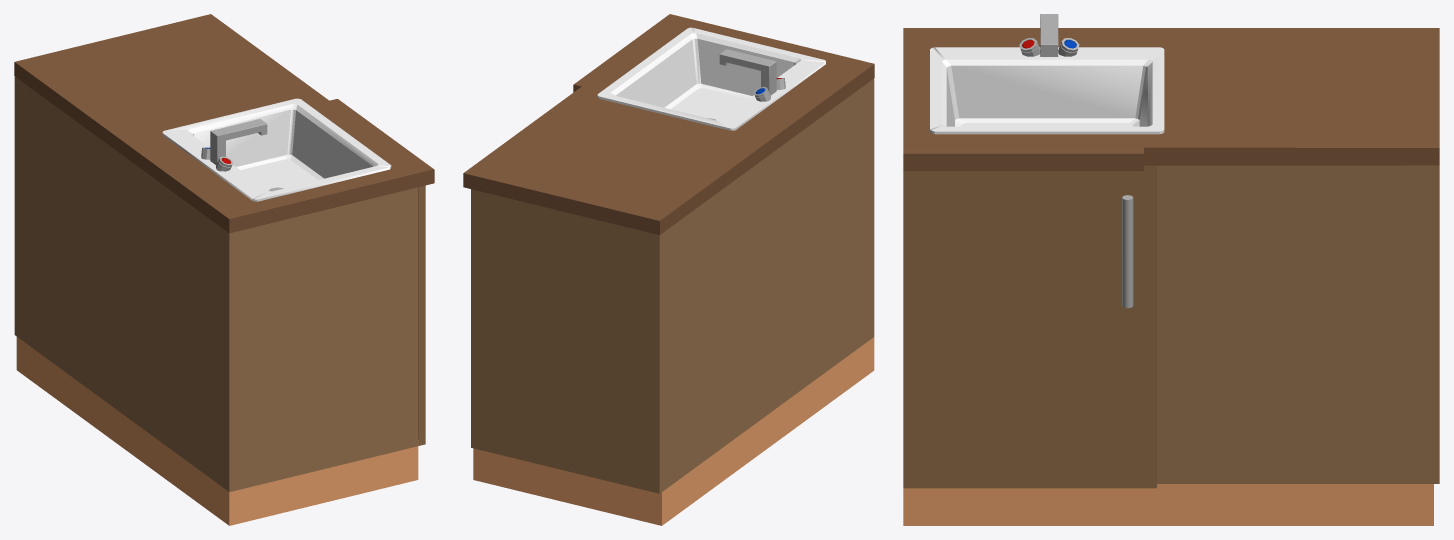
File: modular_kitchen_table_4.FBX
3 views of the same model, side by side, from view 1: azimuth 30°, elevation 25°; view 2: azimuth 150°, elevation 25°; view 3: azimuth 270°, elevation 25° (orthographic). The views are drawn at different scales.
Parts seen in each view (by area): view 1: modular_kitchen_table_4; view 2: modular_kitchen_table_4; view 3: modular_kitchen_table_4.
Boxes of the visible parts, box(x1,y1,x2,y2) form: modular_kitchen_table_4: box(14, 14, 434, 525); modular_kitchen_table_4: box(463, 14, 874, 525); modular_kitchen_table_4: box(903, 14, 1439, 525).
Bounding box in the file's own units: 0.6217 × 0.9471 × 1.09.
